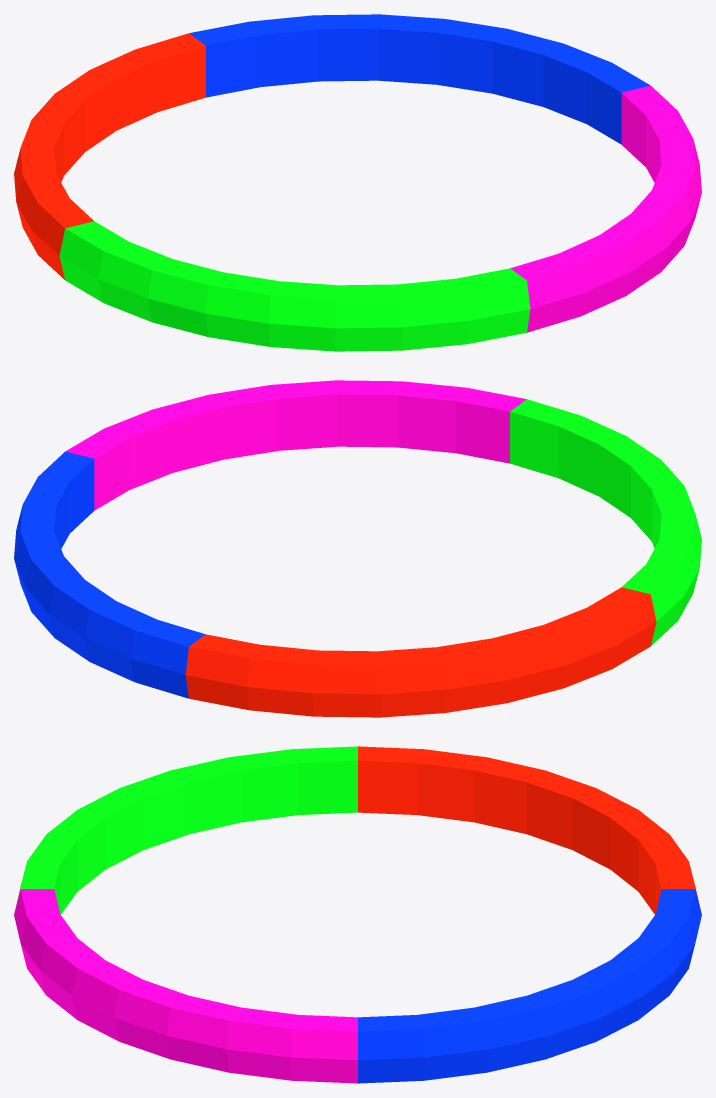
The model's file is ring.glb.
The picture shows the model from 3 angles, top to bottom: view 1: azimuth 30°, elevation 25°; view 2: azimuth 150°, elevation 25°; view 3: azimuth 270°, elevation 25°; orthographic projection.
Visible parts, largest first — view 1: ring1; view 2: ring1; view 3: ring1.
Part boxes in pixels (x1,y1,x2,y2): ring1: (14,14,701,351); ring1: (14,380,701,717); ring1: (14,746,701,1083).
Size of what is drawn, in the model's own units: 1.2 by 0.1 by 1.2.
